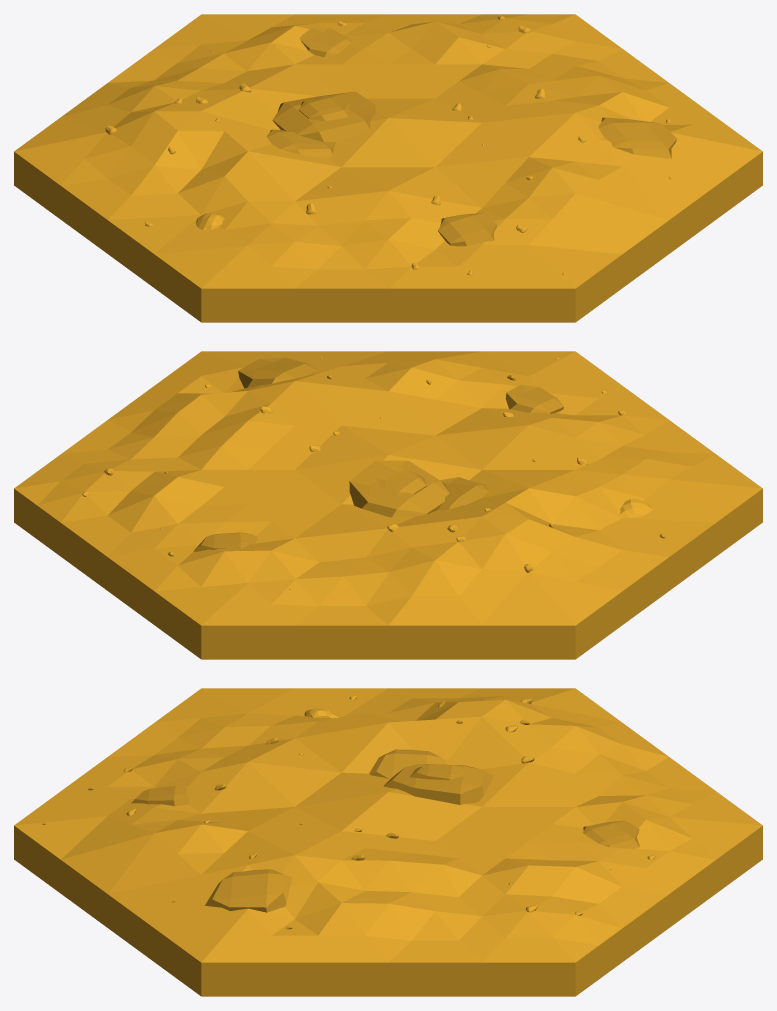
The model's file is bare.glb.
The picture shows the model from 3 angles, top to bottom: view 1: azimuth 30°, elevation 25°; view 2: azimuth 150°, elevation 25°; view 3: azimuth 270°, elevation 25°; orthographic projection.
Parts seen in each view (by area): view 1: land, rocksbig, rock; view 2: land, rocksbig, rock; view 3: land, rocksbig, rock.
Boxes of the visible parts, box(x1,y1,x2,y2) form: land: box(14, 14, 762, 322); rocksbig: box(266, 27, 676, 246); rock: box(105, 15, 671, 275); land: box(14, 351, 762, 659); rocksbig: box(193, 357, 563, 551); rock: box(82, 357, 666, 589); land: box(14, 688, 762, 996); rocksbig: box(131, 749, 639, 912); rock: box(42, 695, 663, 929).
Size of the model in its own units: 1.73 by 0.2189 by 2.
